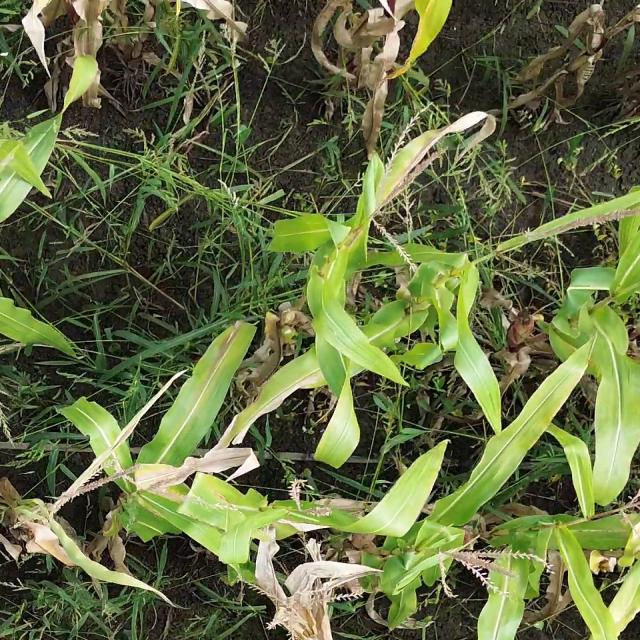northern-leaf-blight: (206, 325, 243, 397), (268, 362, 329, 405)
